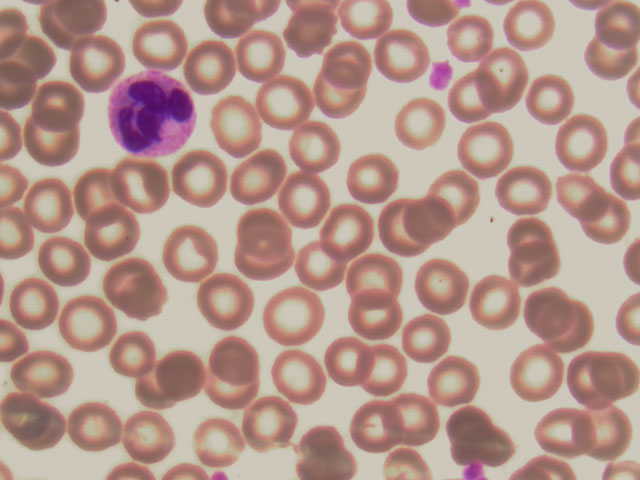Platelets: (428, 60, 459, 89), (464, 458, 487, 480)
RBC: (442, 404, 518, 459), (261, 284, 325, 344), (293, 235, 357, 295), (339, 245, 403, 305), (345, 290, 409, 350), (390, 307, 454, 367), (345, 152, 398, 204), (396, 96, 449, 148), (259, 75, 312, 127), (208, 98, 261, 150), (172, 150, 225, 202), (118, 156, 171, 208), (65, 163, 118, 215), (83, 207, 136, 259), (23, 175, 76, 227), (23, 122, 76, 174), (35, 75, 88, 127), (66, 37, 119, 89), (130, 19, 183, 71), (186, 39, 239, 91), (235, 32, 288, 84), (311, 71, 364, 123), (325, 40, 378, 92), (376, 31, 429, 83), (448, 13, 501, 65), (482, 52, 535, 104), (439, 77, 492, 129), (461, 123, 514, 175), (524, 74, 577, 126), (552, 115, 605, 167), (585, 30, 638, 82), (505, 1, 558, 53), (553, 170, 606, 222), (581, 192, 634, 244), (498, 165, 551, 217), (432, 169, 485, 221), (409, 194, 462, 246), (377, 203, 430, 255), (327, 204, 380, 256), (279, 176, 332, 228), (287, 123, 340, 175), (229, 149, 282, 201), (236, 203, 289, 255), (241, 237, 294, 289), (163, 226, 216, 278), (102, 256, 155, 308), (35, 236, 88, 288), (6, 278, 59, 330), (58, 296, 111, 348), (106, 327, 159, 379), (164, 349, 217, 401), (129, 361, 182, 413), (209, 334, 262, 386), (207, 368, 260, 420), (198, 275, 251, 327), (320, 335, 374, 386), (270, 351, 324, 402), (240, 397, 294, 448), (192, 412, 246, 463), (125, 410, 179, 461), (67, 401, 121, 452), (15, 345, 69, 396), (5, 393, 59, 444), (301, 427, 355, 478), (347, 399, 401, 450), (390, 393, 444, 444), (430, 356, 484, 407), (413, 262, 467, 313), (466, 275, 520, 326), (508, 248, 562, 299), (500, 212, 554, 263), (519, 284, 573, 335), (547, 305, 601, 356), (508, 350, 562, 401), (570, 355, 624, 406), (535, 407, 589, 458), (583, 406, 637, 457), (1, 32, 56, 80), (285, 8, 336, 49), (340, 1, 391, 41)
WBC: (108, 73, 198, 154)
